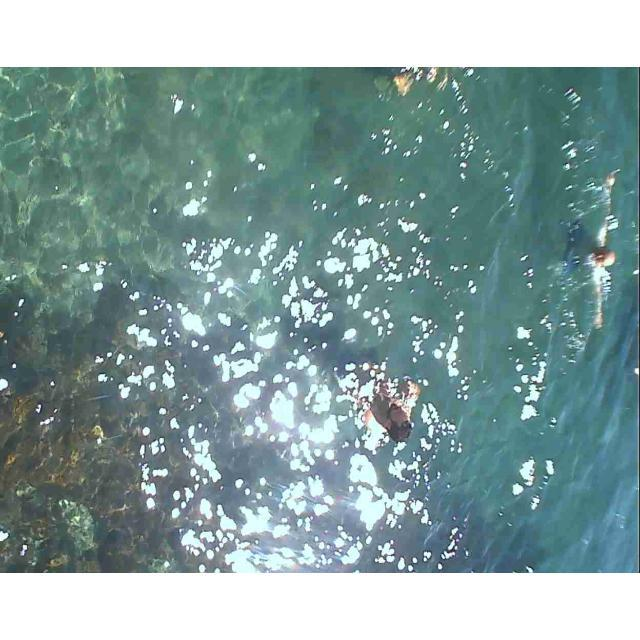human: (576, 170, 635, 346), (358, 373, 434, 460), (403, 67, 488, 118)
